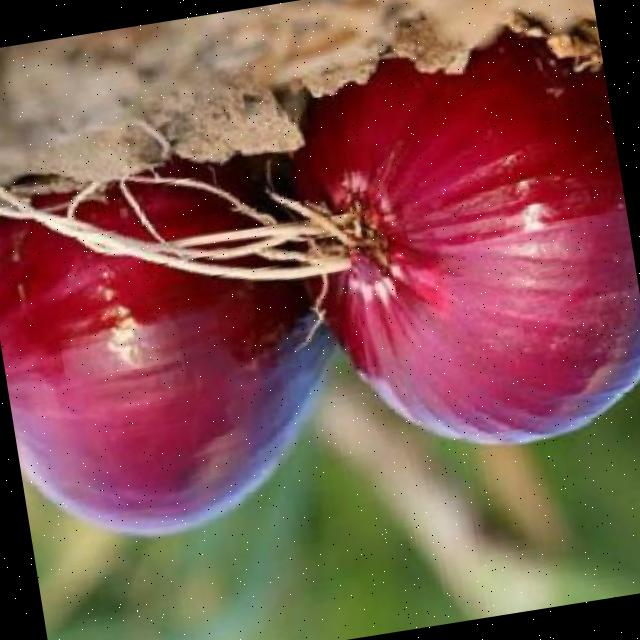Onion: (293, 37, 640, 442), (0, 219, 332, 535)
